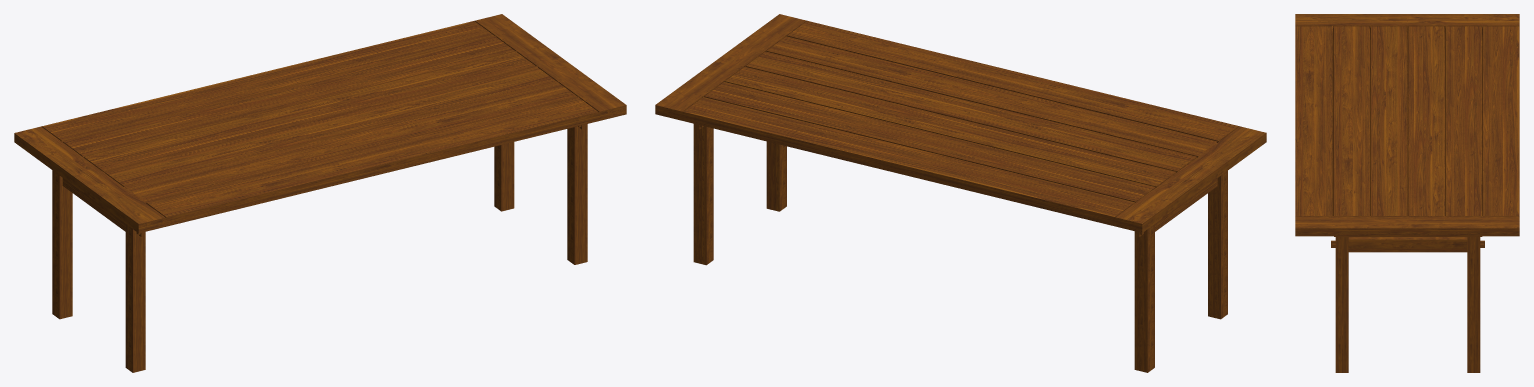
The model's file is RenataBigRectaDinningTable.glb.
3 renders of one model, left to right at view 1: azimuth 30°, elevation 25°; view 2: azimuth 150°, elevation 25°; view 3: azimuth 270°, elevation 25°, orthographic. The views are drawn at different scales.
Parts seen in each view (by area): view 1: Cube.013, Cube.003, Cube.004, Cube.024, Cube.002, Cube.007; view 2: Cube.013, Cube.004, Cube.002, Cube.003, Cube.024, Cube.007; view 3: Cube.013, Cube.005, Cube.024, Cube.002.
Boxes of the visible parts, x1,y1,x2,y2 form: Cube.013: (14, 14, 626, 233); Cube.003: (125, 224, 145, 372); Cube.004: (52, 170, 72, 319); Cube.024: (567, 124, 587, 264); Cube.002: (494, 142, 514, 211); Cube.007: (62, 178, 125, 231); Cube.013: (655, 14, 1266, 232); Cube.004: (1134, 224, 1154, 372); Cube.002: (693, 124, 713, 265); Cube.003: (1208, 171, 1227, 319); Cube.024: (766, 141, 786, 211); Cube.007: (1155, 178, 1217, 231); Cube.013: (1295, 14, 1519, 236); Cube.005: (1348, 237, 1467, 252); Cube.024: (1335, 237, 1348, 372); Cube.002: (1467, 237, 1480, 372).
Bounding box in the file's own units: 2.25 × 0.7458 × 0.9952.
1 material, 1 textured.
